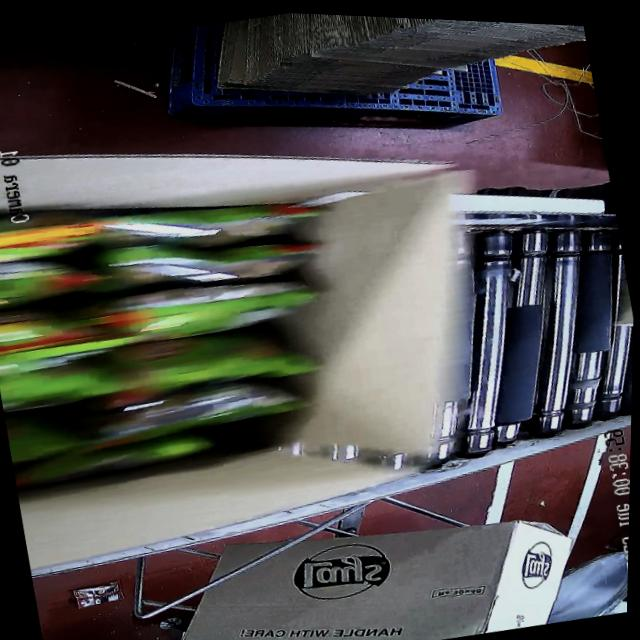YOGURT_HERB: (0, 171, 313, 508)
